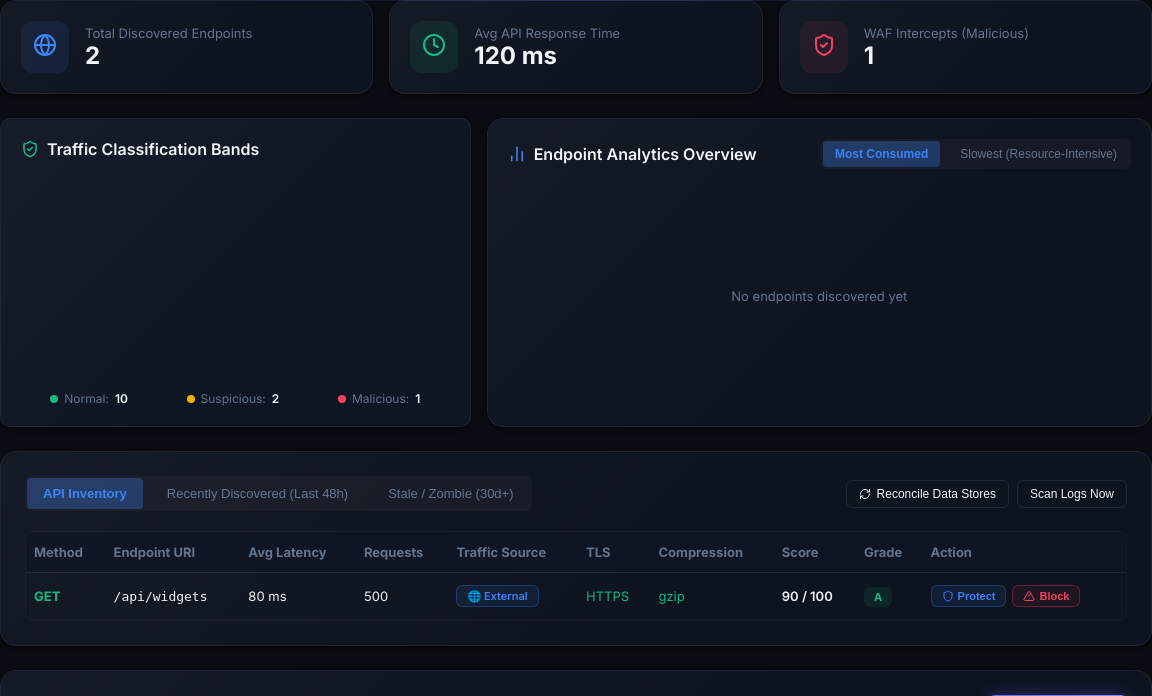
Scenario: ApiProtection — block / unblock › blocking confirms first and marks the endpoint Blocked once confirmed
The image size is (1152, 696).
Click the button "Block": (1046,596) [1012, 585, 1080, 607]
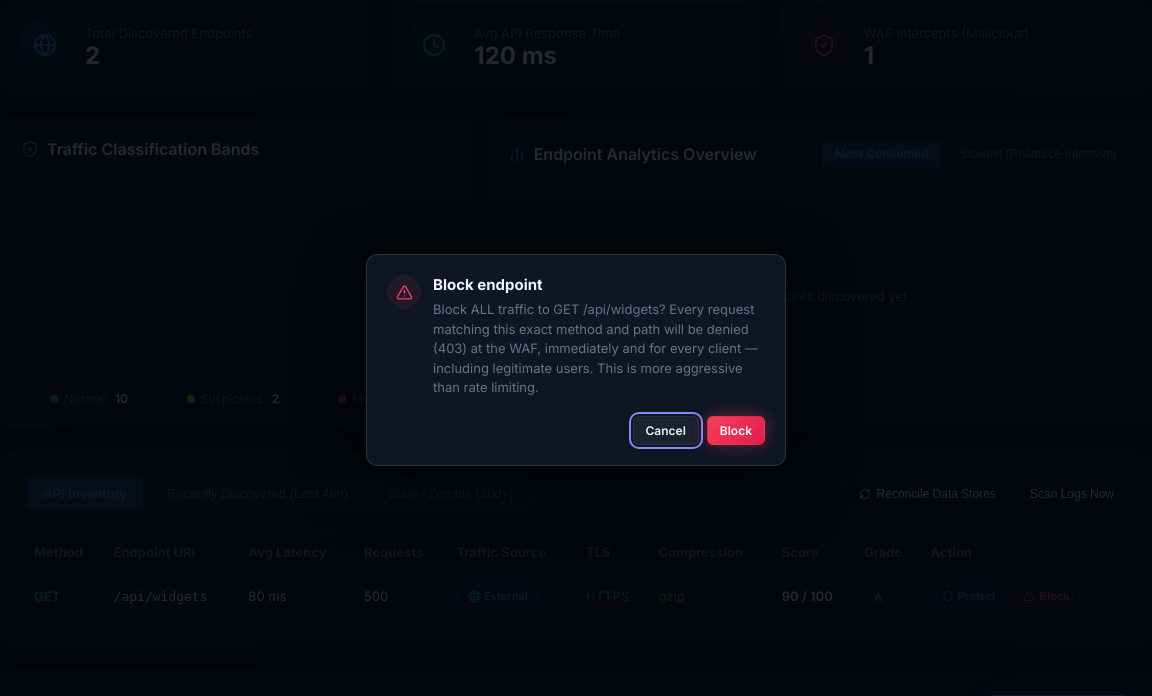
Result: the text "Block ALL traffic to GET /api/widgets" is shown at [433, 301, 758, 395]
Click the button "Block": (736,430) [707, 416, 765, 445]
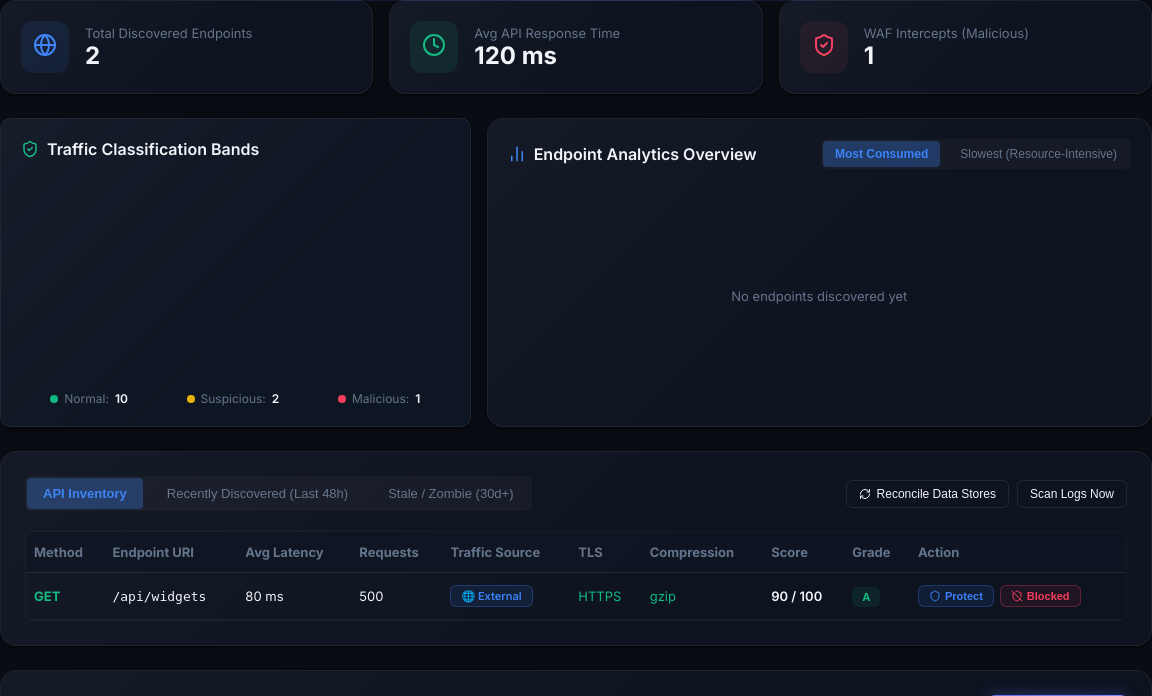
Result: the button "Blocked" is shown at [1000, 585, 1081, 607]
